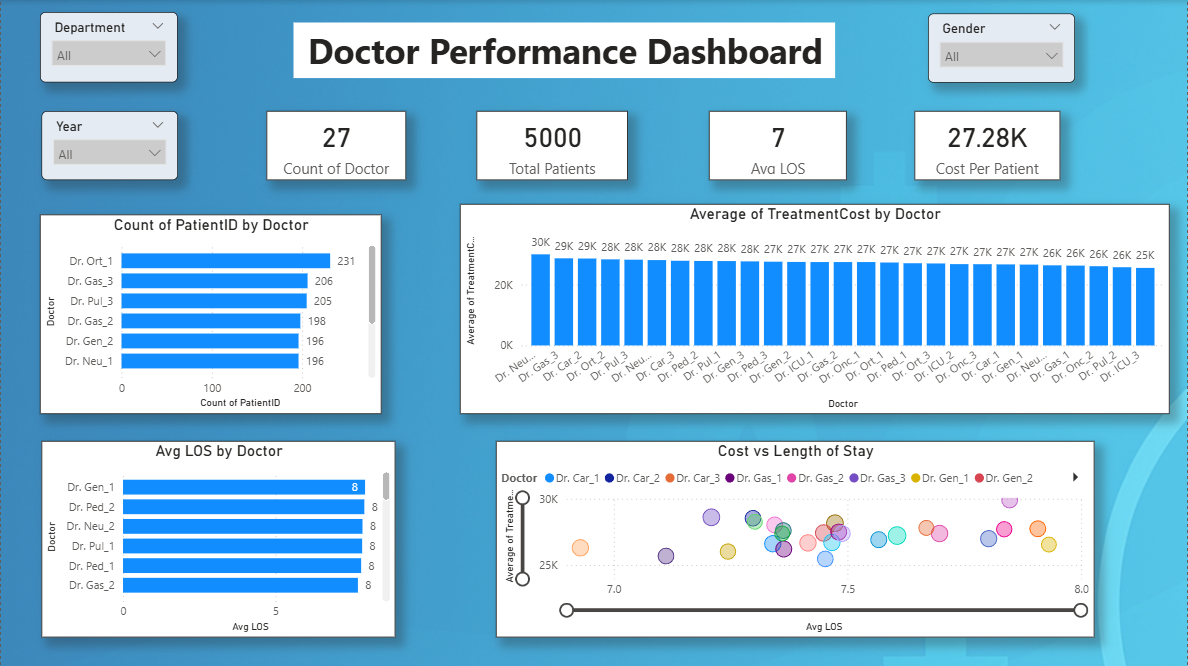

This screenshot's page, from the dashboard's own definition file:
{"tool":"powerbi","page":{"name":" Doctor Performance Dashboard","canvas":[1280,720],"ordinal":3},"visuals":[{"type":"textbox","box":[315.7,24.3,584.5,59.9],"z":0},{"type":"slicer","fields":{"Values":["healthcare_project_5000.Department"]},"box":[42.1,13,149,76.1],"z":1000},{"type":"slicer","fields":{"Values":["healthcare_project_5000.Year"]},"box":[43.7,119.8,147.3,74.5],"z":2000},{"type":"slicer","fields":{"Values":["healthcare_project_5000.Gender"]},"box":[1000.7,14.6,158.7,74.5],"z":3000},{"type":"card","fields":{"Values":["Count(healthcare_project_5000.Doctor)"]},"box":[286.6,119.8,150.6,74.5],"z":4000},{"type":"card","fields":{"Values":["healthcare_project_5000.Total Patients"]},"box":[513.3,119.8,163.5,74.5],"z":5000},{"type":"card","fields":{"Values":["healthcare_project_5000.Avg LOS"]},"box":[764.3,119.8,149,74.5],"z":6000},{"type":"card","fields":{"Values":["healthcare_project_5000.Cost Per Patient"]},"box":[986.1,119.8,157.1,74.5],"z":7000},{"type":"barChart","fields":{"Category":["healthcare_project_5000.Doctor"],"Y":["CountNonNull(healthcare_project_5000.PatientID)"]},"box":[41.8,231,368.5,215.1],"z":8000},{"type":"barChart","fields":{"Category":["healthcare_project_5000.Doctor"],"Y":["healthcare_project_5000.Avg LOS"]},"box":[43.7,476.1,382.1,212.1],"z":9000},{"type":"columnChart","fields":{"Category":["healthcare_project_5000.Doctor"],"Y":["Avg(healthcare_project_5000.TreatmentCost)"]},"box":[495.5,220.2,765.9,226.7],"z":10000},{"type":"scatterChart","title":"Cost vs Length of Stay","fields":{"X":["healthcare_project_5000.Avg LOS"],"Y":["Avg(healthcare_project_5000.TreatmentCost)"],"Size":["CountNonNull(healthcare_project_5000.PatientID)"],"Series":["healthcare_project_5000.Doctor"]},"box":[534.3,476.1,646.1,212.1],"z":11000}]}

Visuals, with their boxes in screenshot pixels (x1, y1, x2, y2), scaled from the page's 1280x720 canvas onto the 1188x666 screenshot:
textbox: 293,22,835,78
slicer - healthcare_project_5000.Department: 39,12,177,82
slicer - healthcare_project_5000.Year: 41,111,177,180
slicer - healthcare_project_5000.Gender: 929,14,1076,82
card - Count(healthcare_project_5000.Doctor): 266,111,406,180
card - healthcare_project_5000.Total Patients: 476,111,628,180
card - healthcare_project_5000.Avg LOS: 709,111,848,180
card - healthcare_project_5000.Cost Per Patient: 915,111,1061,180
barChart - healthcare_project_5000.Doctor x CountNonNull(healthcare_project_5000.PatientID): 39,214,381,413
barChart - healthcare_project_5000.Doctor x healthcare_project_5000.Avg LOS: 41,440,395,637
columnChart - healthcare_project_5000.Doctor x Avg(healthcare_project_5000.TreatmentCost): 460,204,1171,413
"Cost vs Length of Stay" scatterChart: 496,440,1096,637
